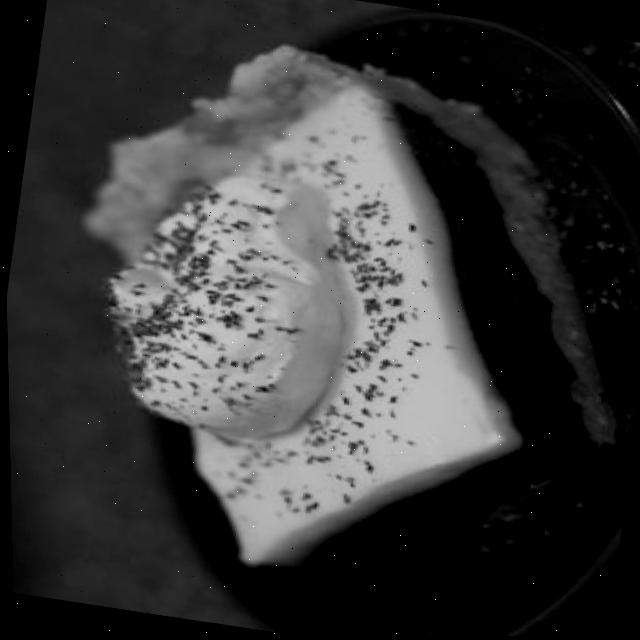蛋糕甜品: (20, 4, 640, 640)
